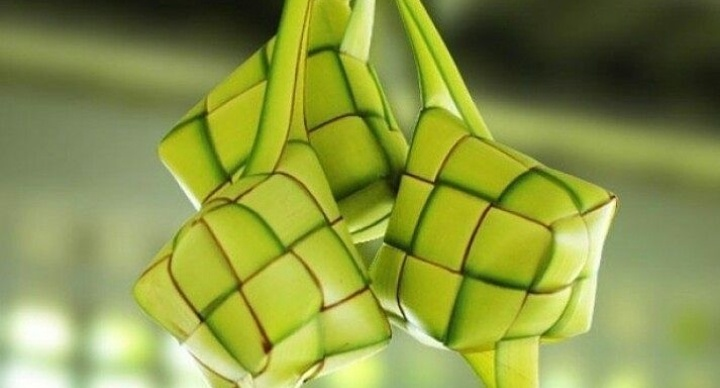ketupat: (133, 140, 391, 387), (367, 106, 618, 351)
